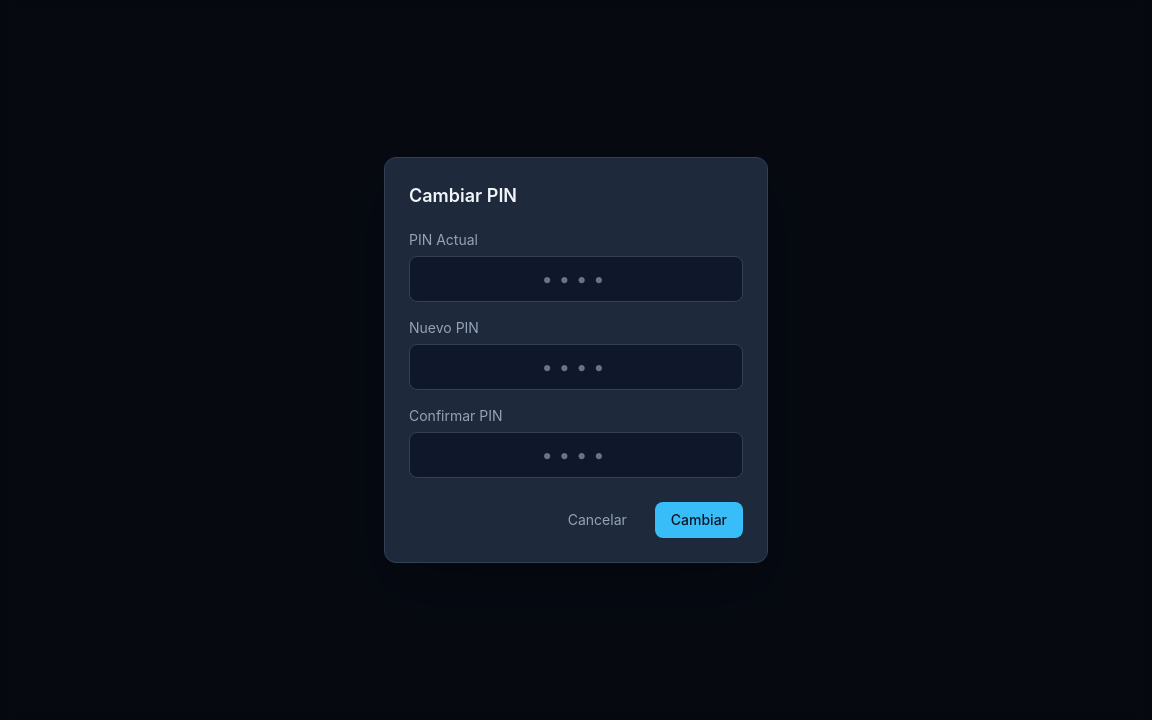
Test case: PinDialog — change mode (Req 2.6) › should show error when new PINs do not match in change mode
Type "1234" into the password field with test id "pin-input-current" at (576, 279), box [409,256,743,302]
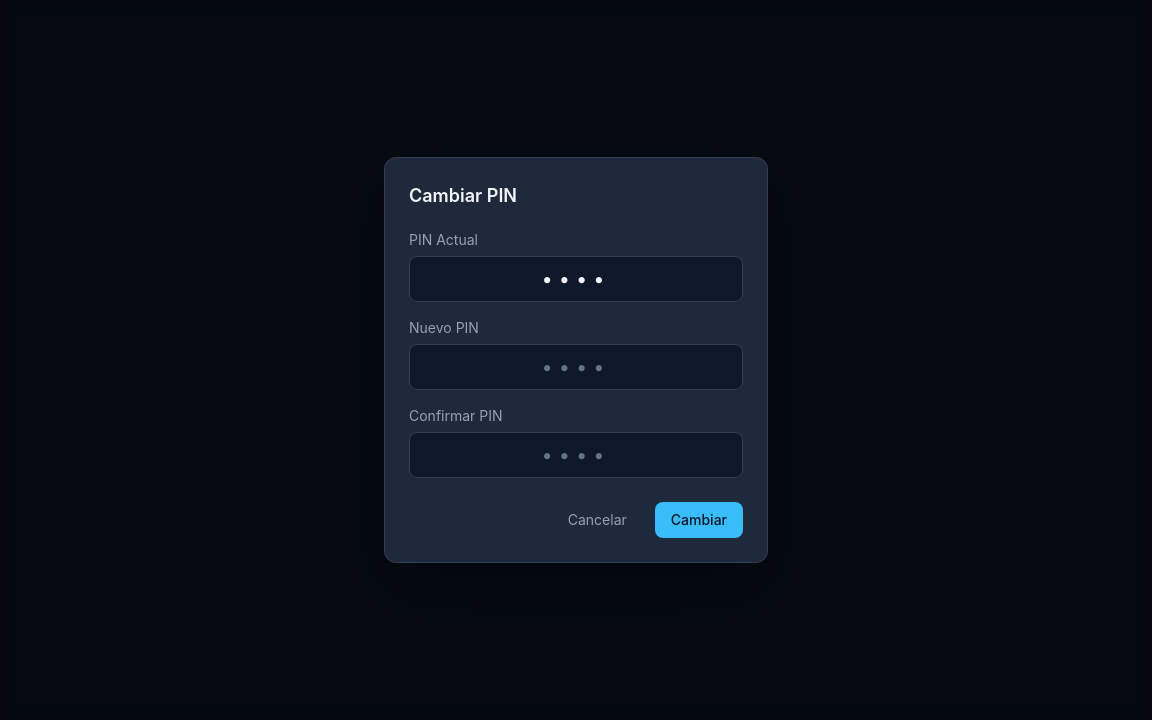
Type "5678" into the password field with test id "pin-input-new" at (576, 367), box [409,344,743,390]
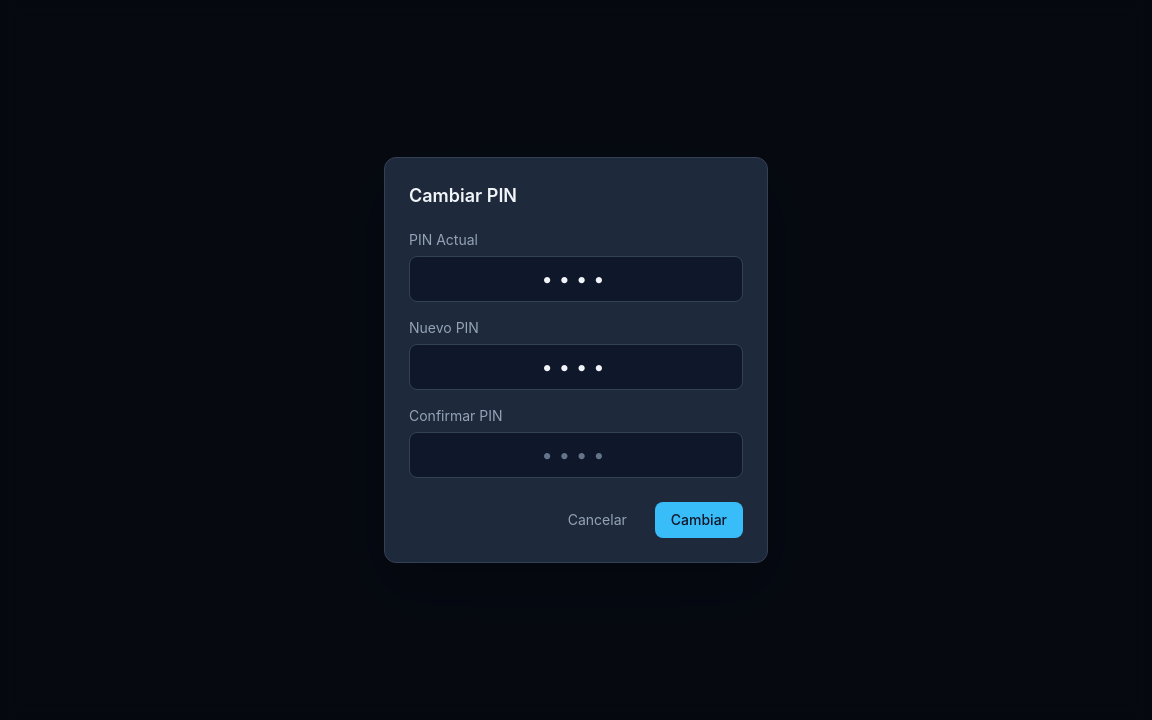
Type "9999" into the password field with test id "pin-input-confirm" at (576, 455), box [409,432,743,478]
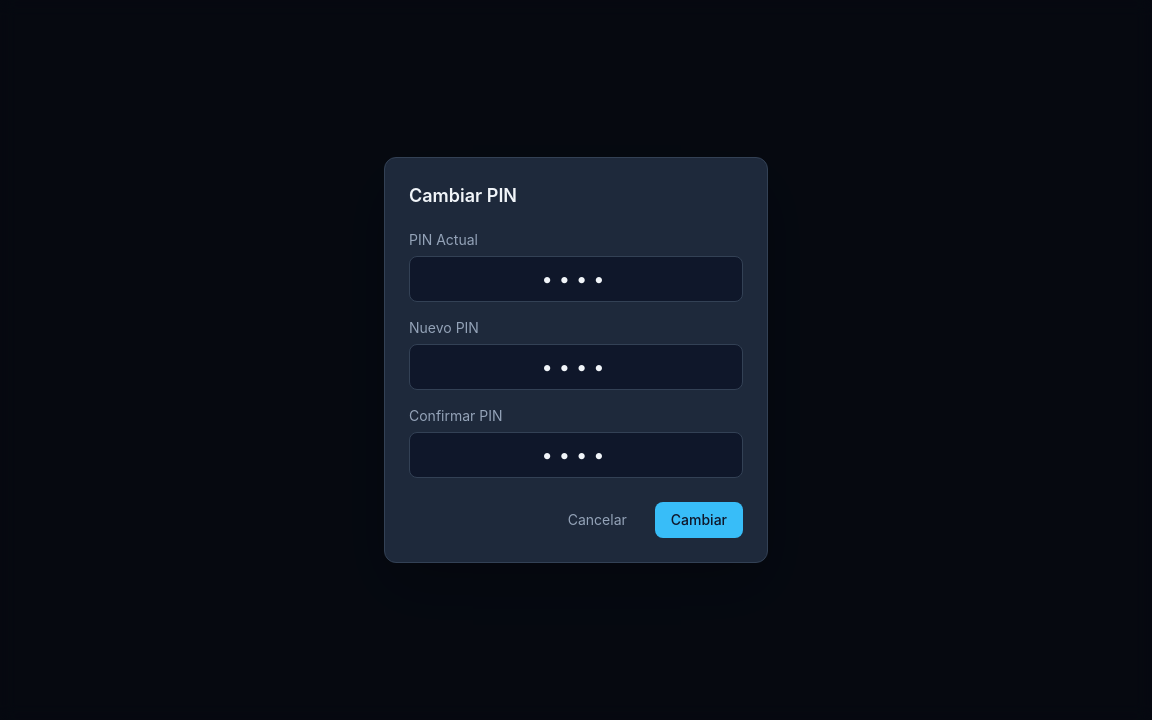
Click the button with test id "pin-dialog-submit" at (699, 520), box [655,502,743,538]
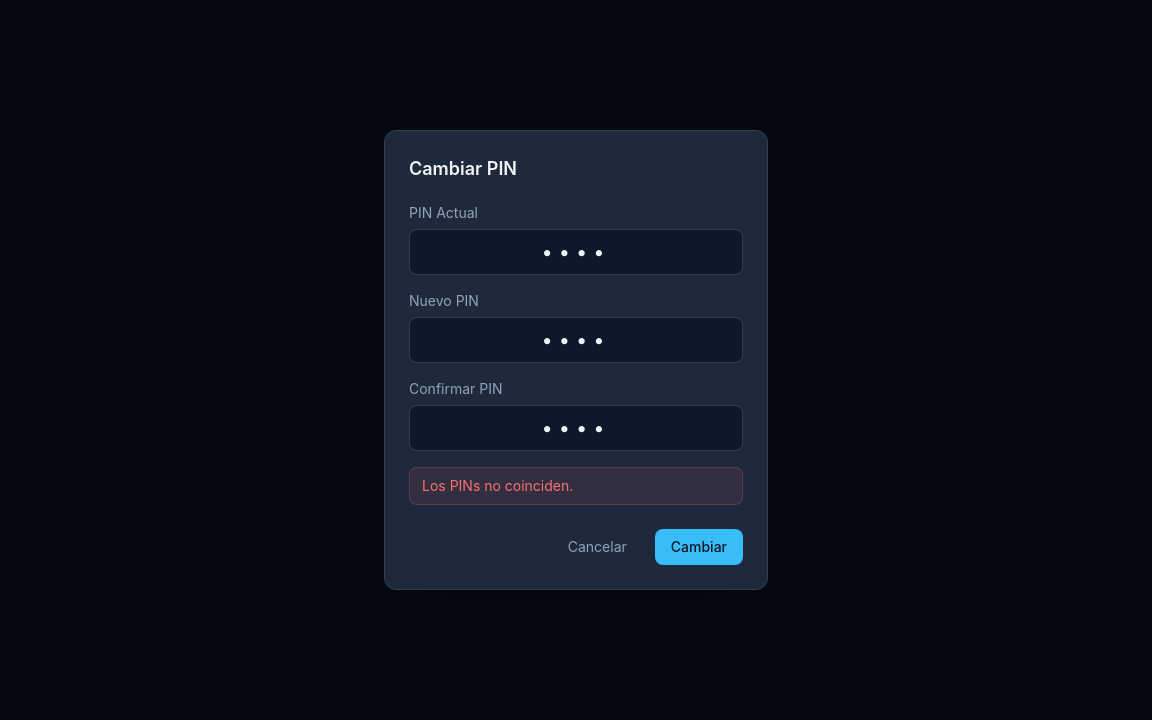
Expected: the message with test id "pin-dialog-error" reads "Los PINs no coinciden.", [422,477,573,494]
